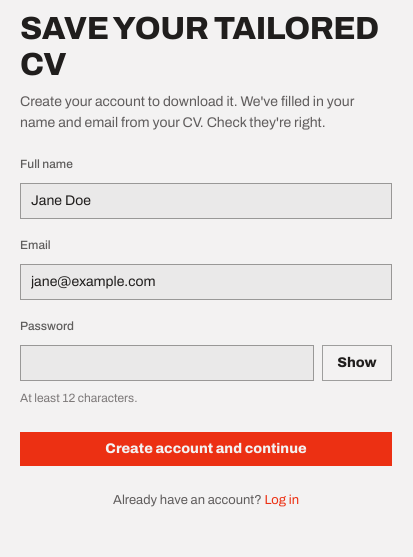
Scenario: TrialSignupPage (/try/signup) › offers to log in instead when the email already has an account
expect the field labelled "Full name" holds "Jane Doe": met, box [20,183,392,219]
In the password field labelled "Password": [167, 363] box [20,345,314,381], type "password1234"
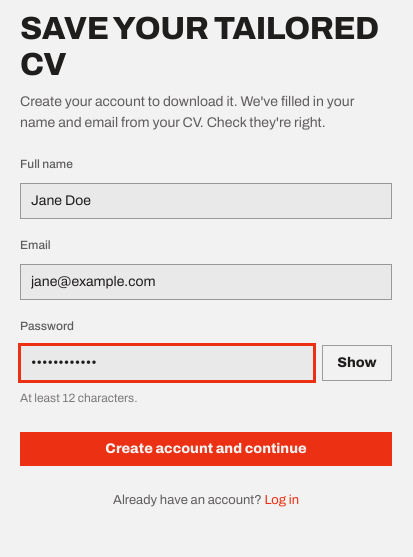
Click the button "Create account and continue": [206, 449] box [20,432,392,466]
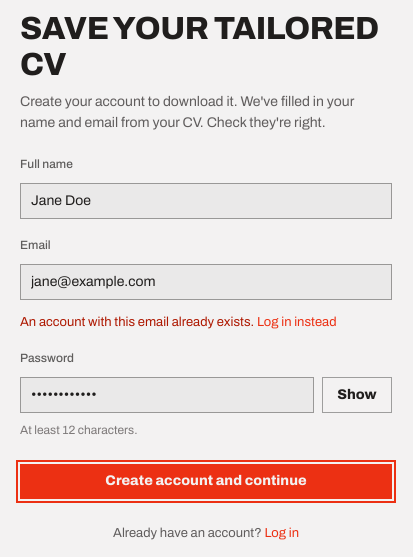
expect the message "An account with this email already exists. Log in instead" is shown: met, box [20,312,392,332]
